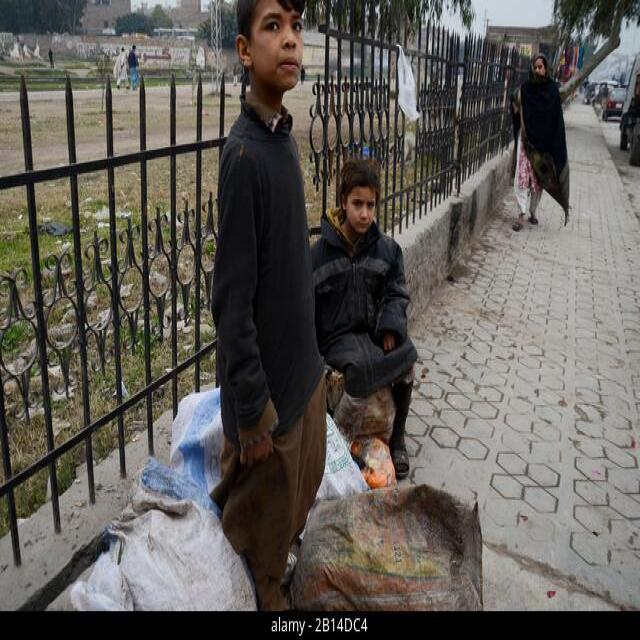trash: (341, 401, 478, 607), (135, 439, 227, 606)
